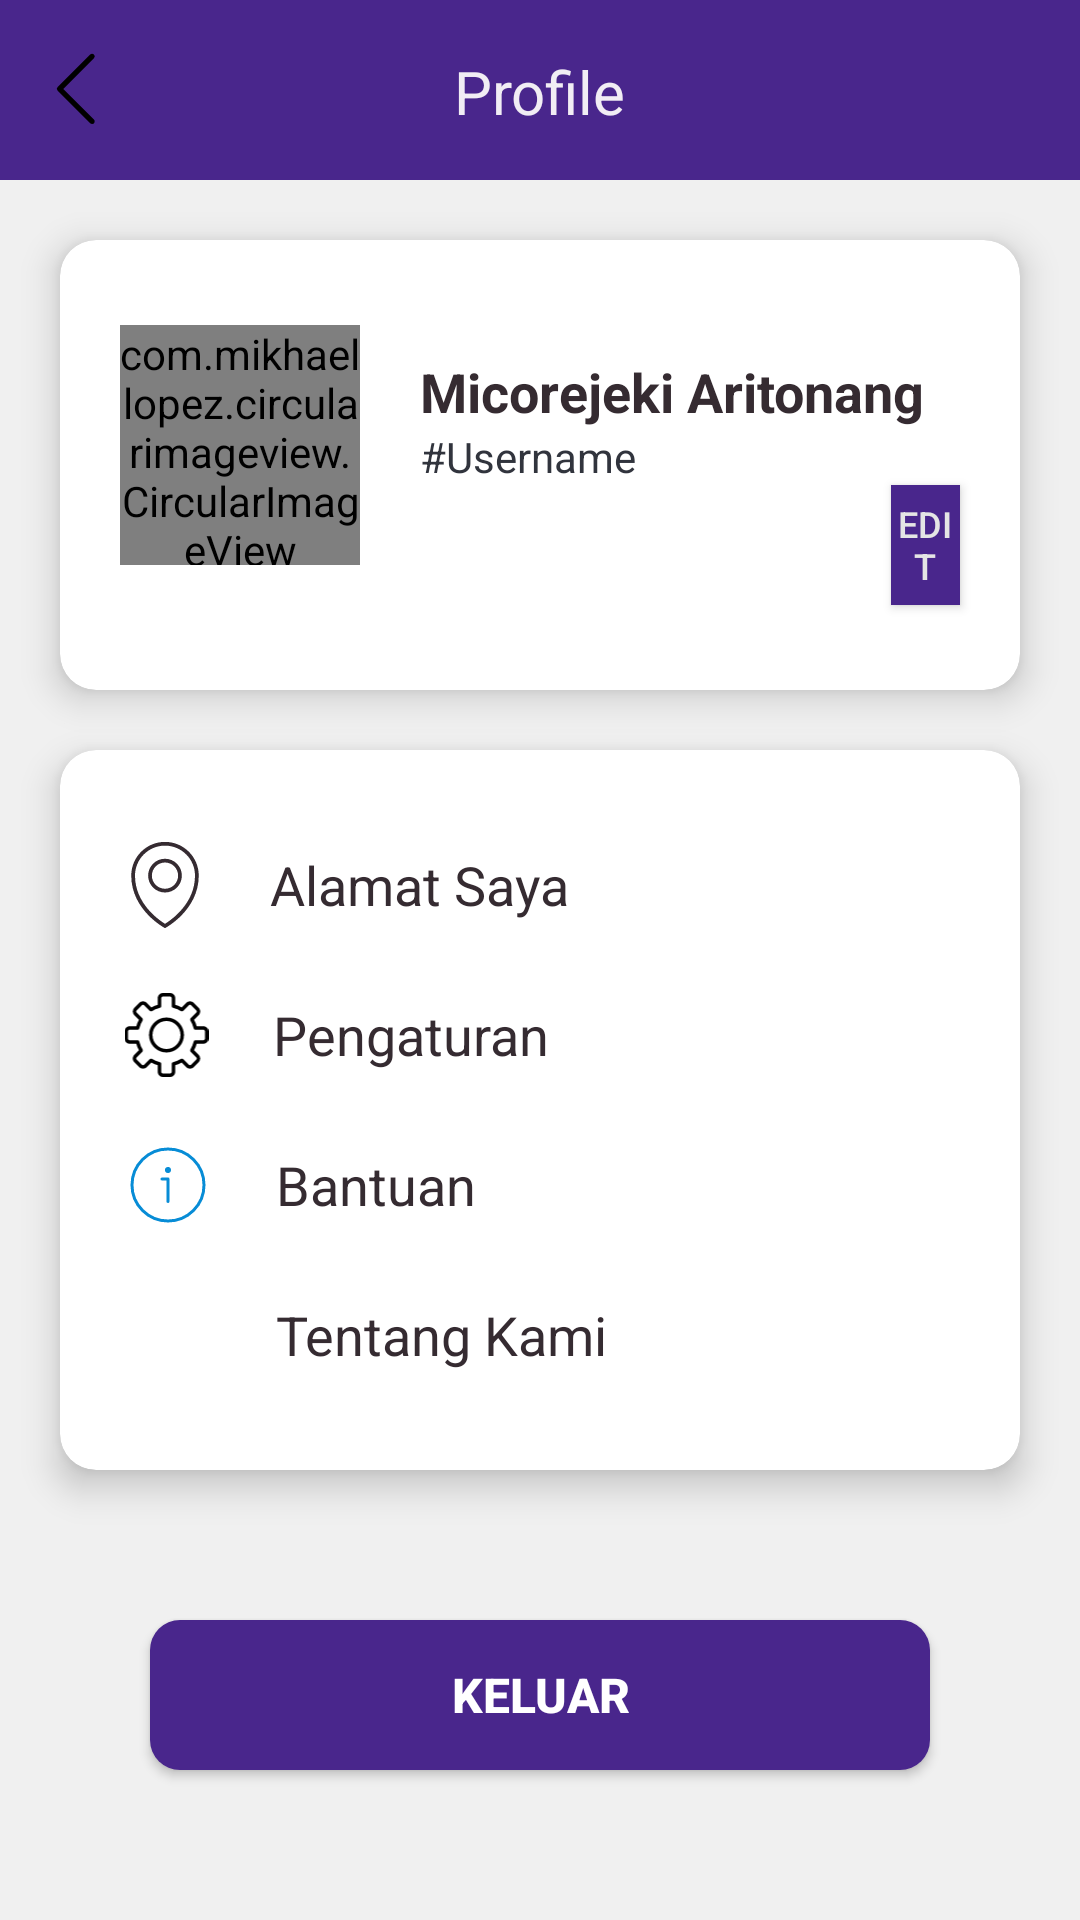

Where to tap for icons on this 1080w x 1920h app screen, as [x,y]:
arrow left: [76,89]
informasi: [168,1185]
setting: [167,1035]
